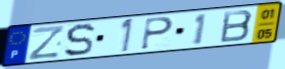1: (119, 17, 136, 54), (193, 12, 208, 47)
B: (219, 8, 255, 44)
P: (139, 16, 176, 52)
S: (62, 22, 97, 58)
Z: (26, 24, 66, 62)
